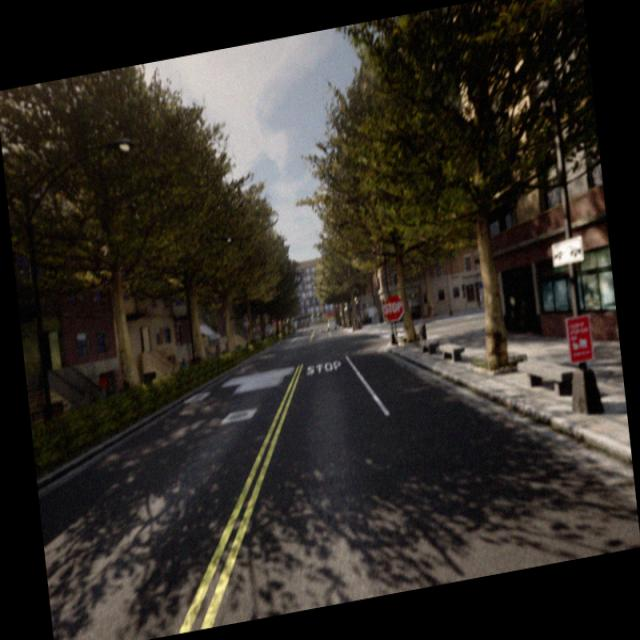stop sign: (381, 292, 405, 323)
